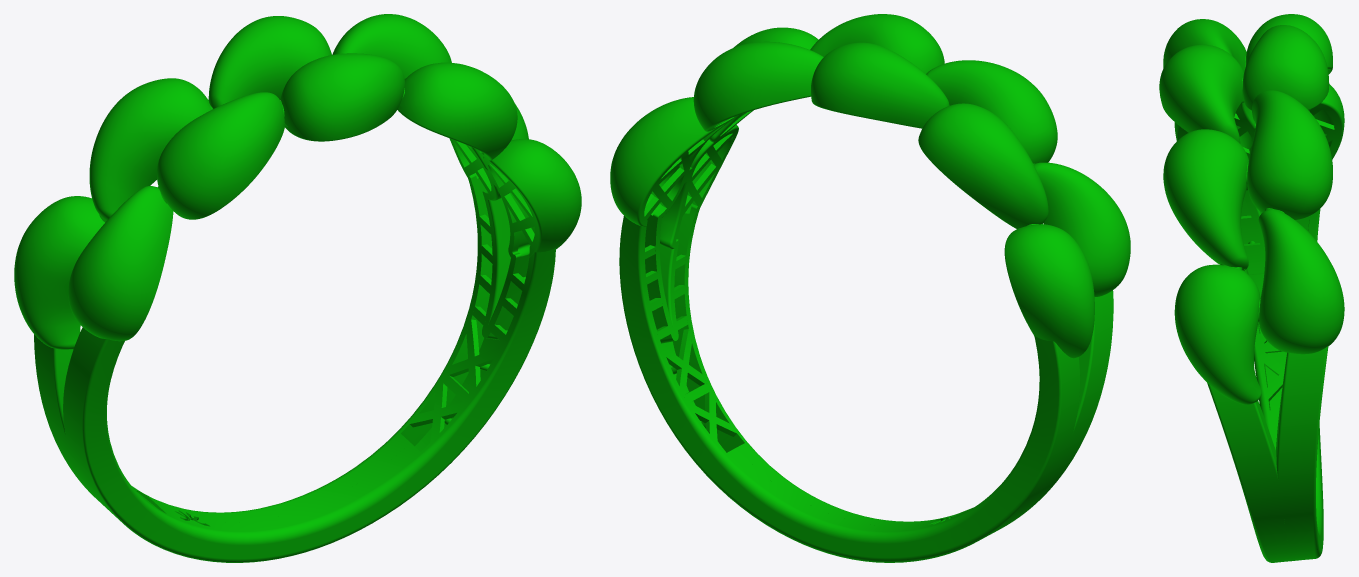
The picture shows the model from 3 angles, left to right: view 1: azimuth 30°, elevation 25°; view 2: azimuth 150°, elevation 25°; view 3: azimuth 270°, elevation 25°; orthographic projection. The views are drawn at different scales.
Parts seen in each view (by area): view 1: RNG-2510230.3dm; view 2: RNG-2510230.3dm; view 3: RNG-2510230.3dm.
Part boxes in pixels (x1=…): RNG-2510230.3dm: x1=14, y1=14, x2=581, y2=562; RNG-2510230.3dm: x1=610, y1=14, x2=1130, y2=562; RNG-2510230.3dm: x1=1159, y1=14, x2=1344, y2=562.
Bounding box in the file's own units: 2.77 × 2.74 × 0.9185.
